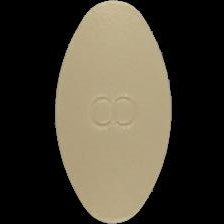75921-459: (0, 0, 224, 224)
